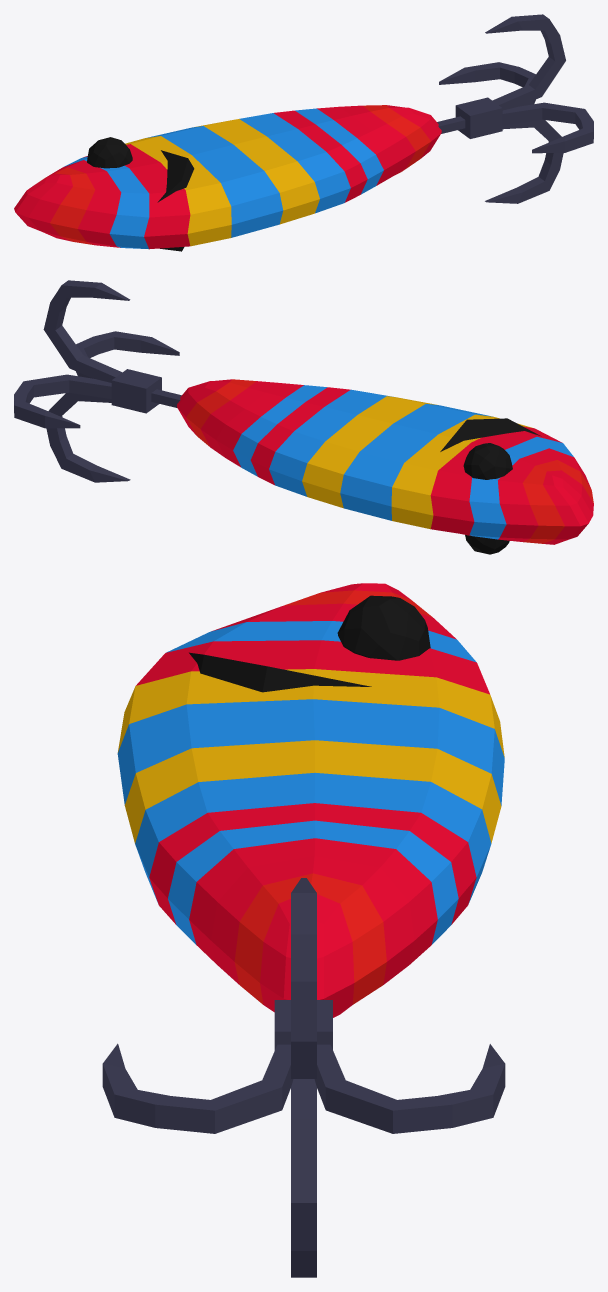
Rendered from lure_6.glb.
3 views of the same model, one above another, from view 1: azimuth 30°, elevation 25°; view 2: azimuth 150°, elevation 25°; view 3: azimuth 270°, elevation 25° (orthographic). The views are drawn at different scales.
Visible parts, largest first — view 1: Lure_6; view 2: Lure_6; view 3: Lure_6.
Part boxes in pixels (<box>): Lure_6: <box>14,14,593,251</box>; Lure_6: <box>14,280,593,554</box>; Lure_6: <box>102,583,505,1277</box>.
Size of the model in its own units: 5.6 by 1.85 by 1.85.
